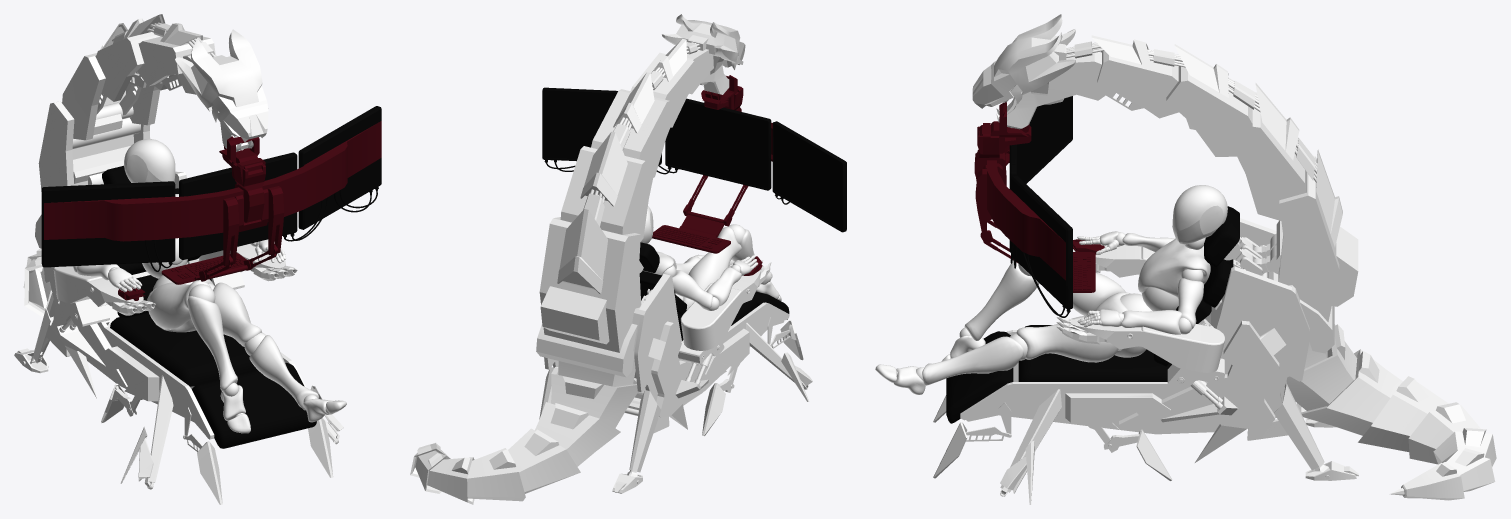
File: 3d-dragonChair.glb
3 views of the same model, side by side, from view 1: azimuth 30°, elevation 25°; view 2: azimuth 150°, elevation 25°; view 3: azimuth 270°, elevation 25° (orthographic). The views are drawn at different scales.
Visible parts, largest first — view 1: a1UVs3, a2UVs1, JUST_MAT_xBot_, a1UVs1, a1UVs4, mainHead, monitor_right, monitorMid, monitor_left, mech, tail_2_1, a2UVs1_3 (+1 smaller); view 2: a1UVs1, a1UVs3, tail_2_1, monitorMid, monitor_right, JUST_MAT_xBot_, monitor_left, mainHead, a2UVs1, a1UVs4; view 3: a1UVs3, a1UVs1, JUST_MAT_xBot_, tail_2_1, a1UVs4, mainHead, a2UVs1, monitor_right, monitor_left, a2UVs1_3.
Boxes of the visible parts, x1,y1,x2,y2 form: a1UVs3: (14,171,343,504); a2UVs1: (44,121,381,300); JUST_MAT_xBot_: (73,139,346,433); a1UVs1: (35,14,216,248); a1UVs4: (102,165,378,448); mainHead: (175,29,268,151); monitor_right: (41,181,175,267); monitorMid: (179,152,297,259); monitor_left: (298,106,381,229); mech: (72,71,181,148); tail_2_1: (23,22,243,317); a2UVs1_3: (232,162,265,222); a1UVs1: (536,38,713,377); a1UVs3: (539,260,812,493); tail_2_1: (410,42,700,504); monitorMid: (665,98,771,190); monitor_right: (772,121,846,232); JUST_MAT_xBot_: (641,206,781,310); monitor_left: (542,87,661,164); mainHead: (662,14,745,94); a2UVs1: (652,123,772,275); a1UVs4: (544,160,789,340); a1UVs3: (933,218,1358,504); a1UVs1: (1031,35,1358,353); JUST_MAT_xBot_: (875,185,1227,394); tail_2_1: (1011,41,1496,500); a1UVs4: (946,206,1239,423); mainHead: (972,14,1075,129); a2UVs1: (975,145,1104,292); monitor_right: (1016,96,1072,183); monitor_left: (1011,175,1072,309); a2UVs1_3: (974,126,1006,185).
Size of the model in its own units: 17.77 by 20.7 by 27.25.
